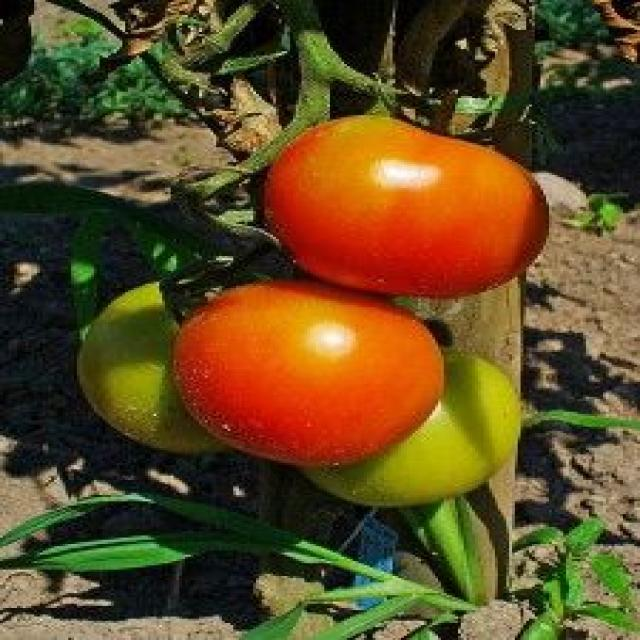level 2: (74, 276, 292, 461)
level 3: (291, 346, 515, 510)
level 5: (267, 118, 551, 305), (180, 288, 442, 476)
